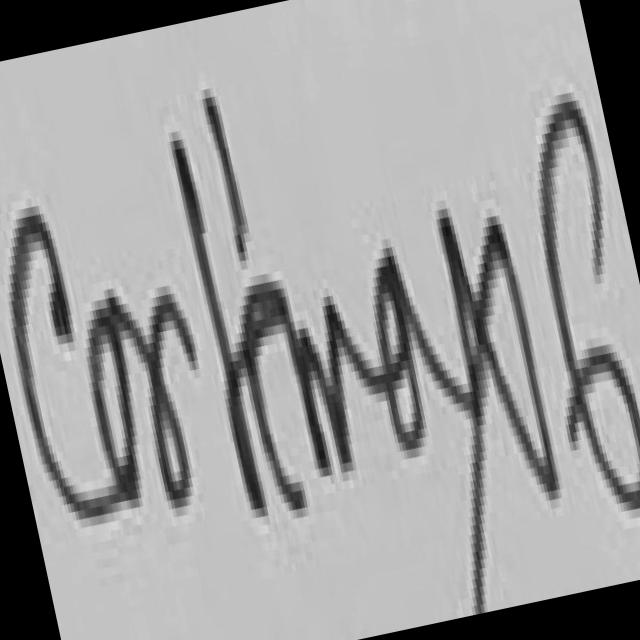6: (498, 46, 640, 535)
C: (0, 145, 122, 547)
a: (338, 190, 475, 496)
i: (185, 70, 323, 523)
m: (258, 244, 392, 504)
o: (66, 288, 162, 528)
r: (103, 246, 230, 529)
t: (142, 82, 280, 534)
x: (410, 158, 588, 542)
